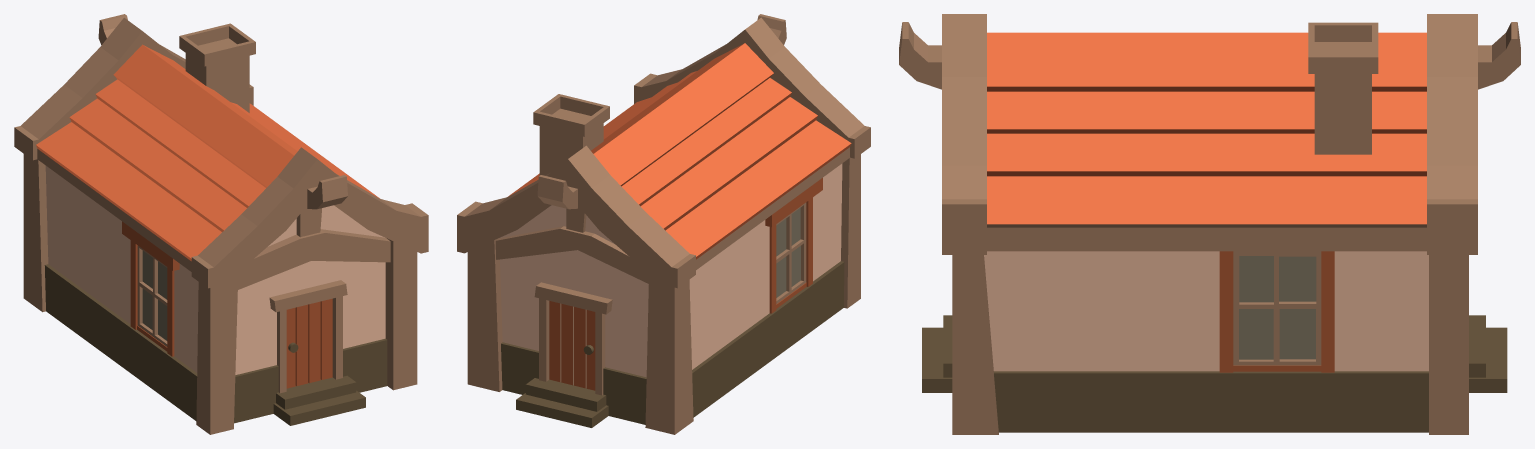
Rendered from House.fbx.
3 renders of one model, left to right at view 1: azimuth 30°, elevation 25°; view 2: azimuth 150°, elevation 25°; view 3: azimuth 270°, elevation 25°, orthographic. The views are drawn at different scales.
Visible parts, largest first — view 1: Group1; view 2: Group1; view 3: Group1.
Boxes of the visible parts, bbox=[...] form: Group1: bbox=[14, 14, 428, 434]; Group1: bbox=[457, 14, 870, 434]; Group1: bbox=[899, 14, 1520, 434].
Bounding box in the file's own units: 1348 × 1498 × 2376.
